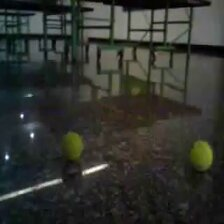tennis: (189, 141, 214, 172), (61, 130, 85, 161)
